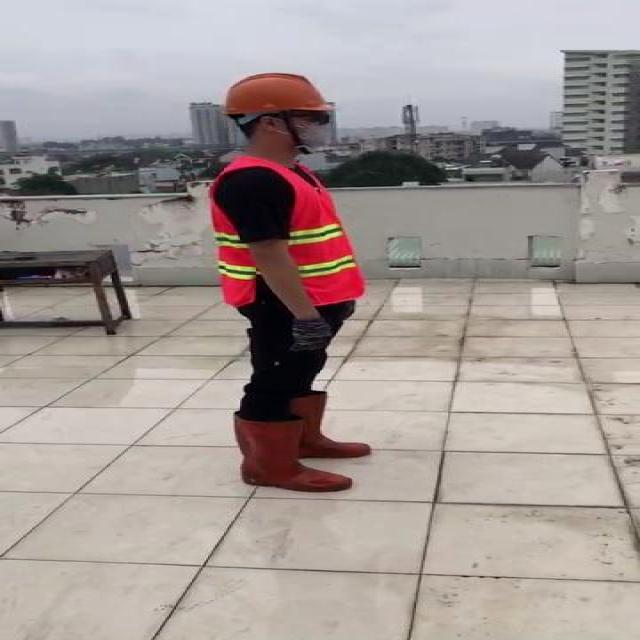boots: (226, 410, 354, 496), (286, 392, 370, 460)
face_mask: (285, 108, 337, 147)
glasses: (290, 106, 336, 126)
hand_glove: (282, 316, 333, 353)
head_helmet: (224, 68, 338, 115)
person: (194, 70, 384, 497)
vest: (201, 156, 368, 304)
